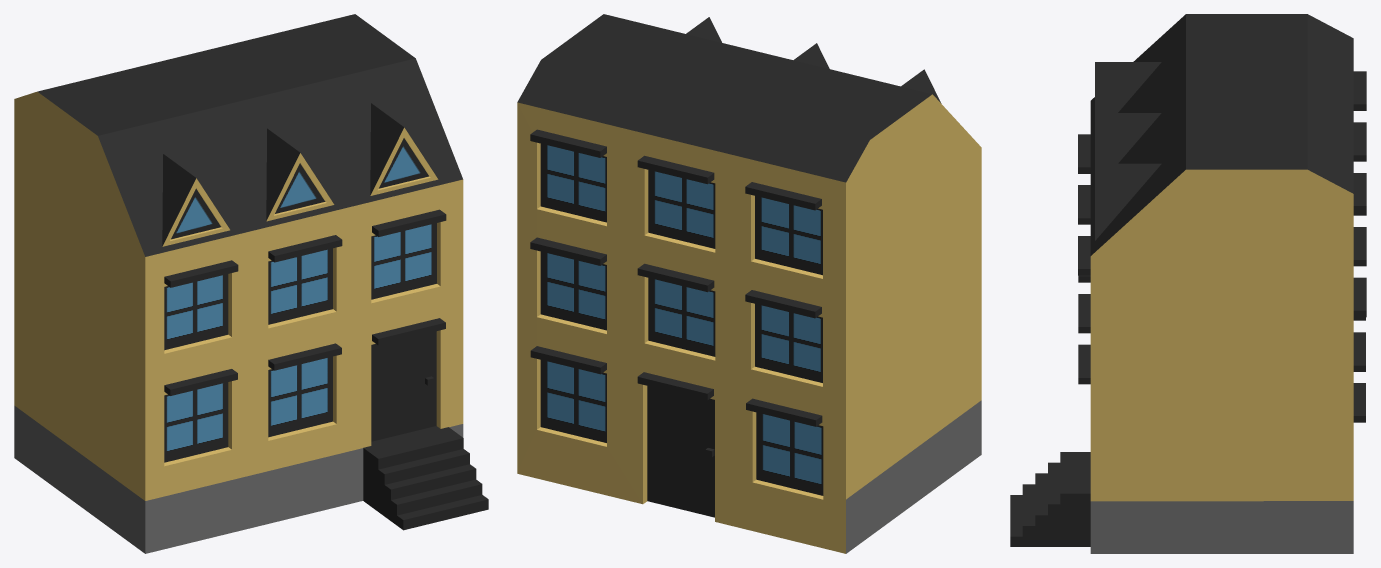
Rendered from NormalTriangleYellow.obj.
3 views of the same model, side by side, from view 1: azimuth 30°, elevation 25°; view 2: azimuth 150°, elevation 25°; view 3: azimuth 270°, elevation 25° (orthographic). The views are drawn at different scales.
Parts seen in each view (by area): view 1: ZwyklyTrojkatZolty; view 2: ZwyklyTrojkatZolty; view 3: ZwyklyTrojkatZolty.
Boxes of the visible parts, bbox=[...] form: ZwyklyTrojkatZolty: bbox=[14, 14, 488, 553]; ZwyklyTrojkatZolty: bbox=[517, 14, 981, 553]; ZwyklyTrojkatZolty: bbox=[1010, 14, 1366, 553].
Bounding box in the file's own units: 7 × 8.07 × 6.78.
